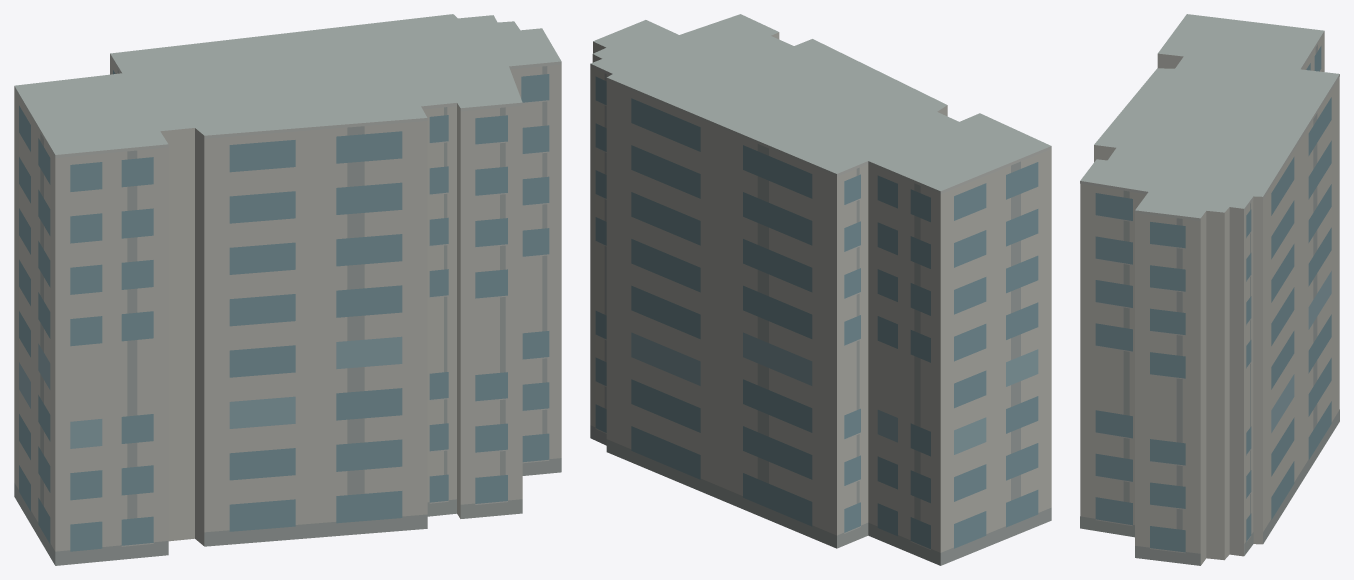
The model's file is survey-upis-33036760.glb.
3 renders of one model, left to right at view 1: azimuth 30°, elevation 25°; view 2: azimuth 150°, elevation 25°; view 3: azimuth 270°, elevation 25°, orthographic. The views are drawn at different scales.
Visible parts, largest first — view 1: survey-upis-33036760.tmp; view 2: survey-upis-33036760.tmp; view 3: survey-upis-33036760.tmp.
Boxes of the visible parts, x1,y1,x2,y2 form: survey-upis-33036760.tmp: [14, 14, 561, 565]; survey-upis-33036760.tmp: [590, 14, 1051, 565]; survey-upis-33036760.tmp: [1080, 14, 1339, 565].
Size of the model in its own units: 38.97 by 30.9 by 20.93.
